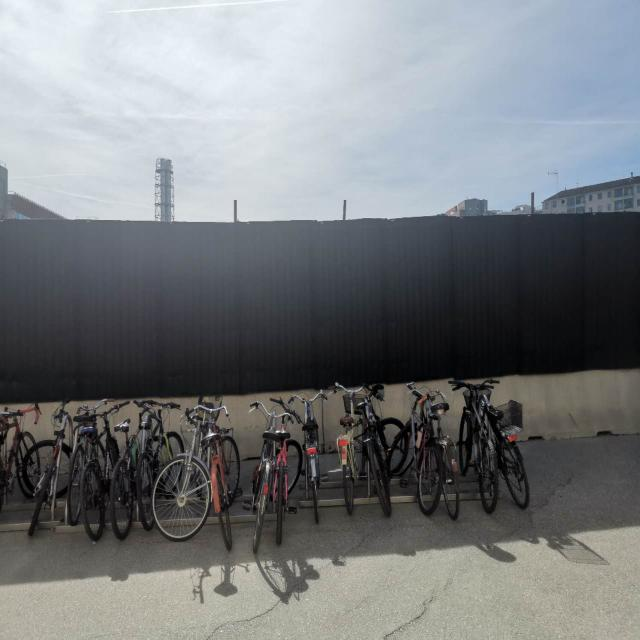Bicycle: (152, 394, 239, 549), (466, 372, 534, 517), (20, 398, 79, 559), (449, 370, 504, 542), (124, 391, 182, 552), (73, 393, 133, 539), (105, 400, 158, 558), (361, 366, 406, 551), (421, 377, 471, 538), (290, 385, 338, 548), (386, 391, 444, 524), (244, 389, 284, 579), (323, 367, 367, 536), (269, 385, 305, 564), (203, 396, 237, 565), (50, 403, 92, 538)
